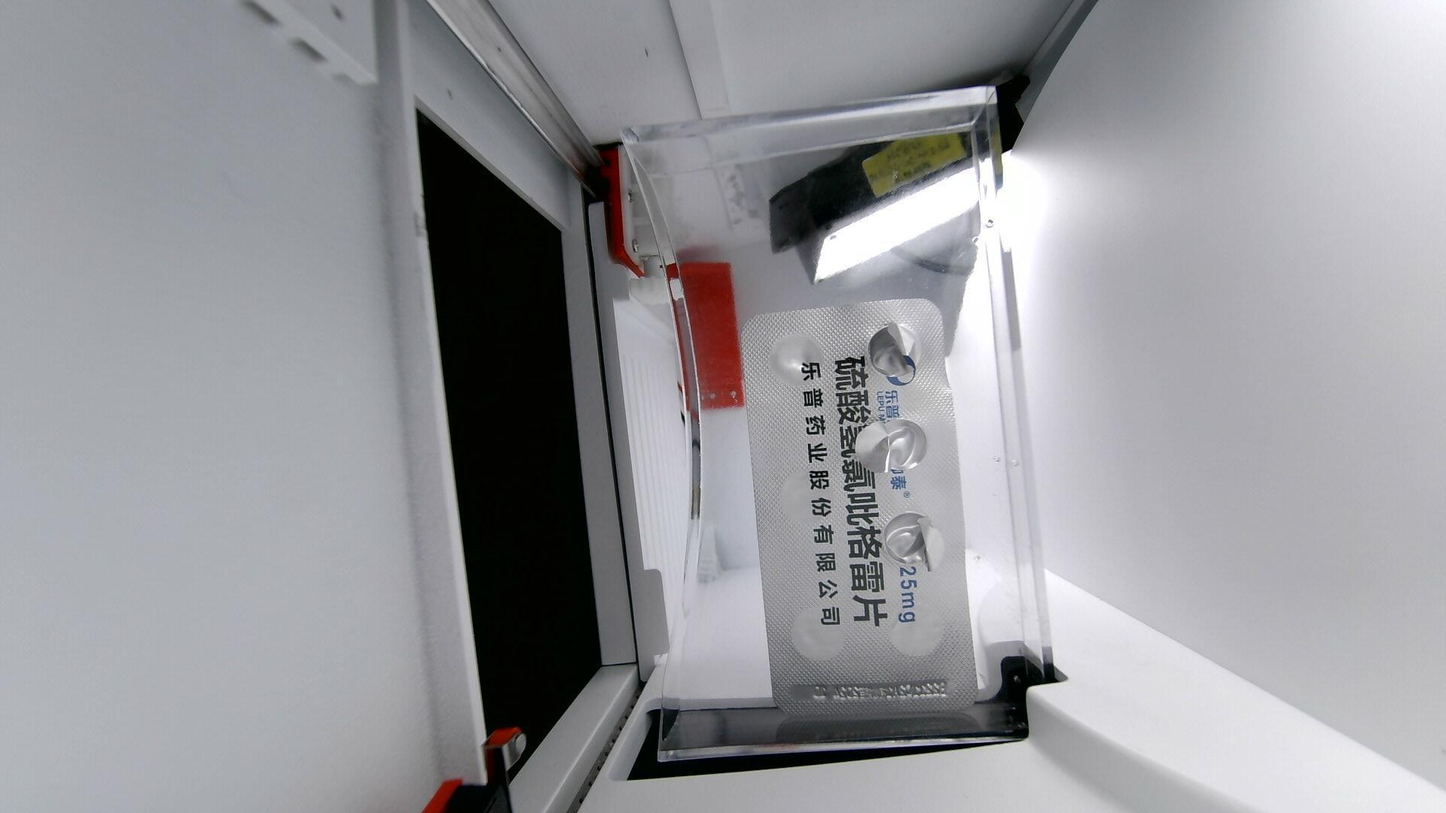No Pill Back: (863, 321, 922, 376), (867, 418, 926, 472), (883, 511, 938, 560)
Pill Back: (772, 468, 839, 527), (885, 601, 947, 659), (764, 330, 828, 382), (792, 610, 846, 662)
